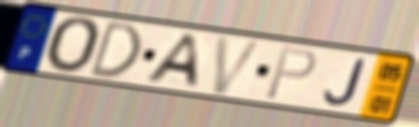A: (141, 32, 202, 91)
D: (86, 18, 144, 80)
J: (321, 57, 368, 109)
O: (43, 14, 105, 77)
P: (263, 45, 320, 102)
V: (210, 34, 268, 97)
